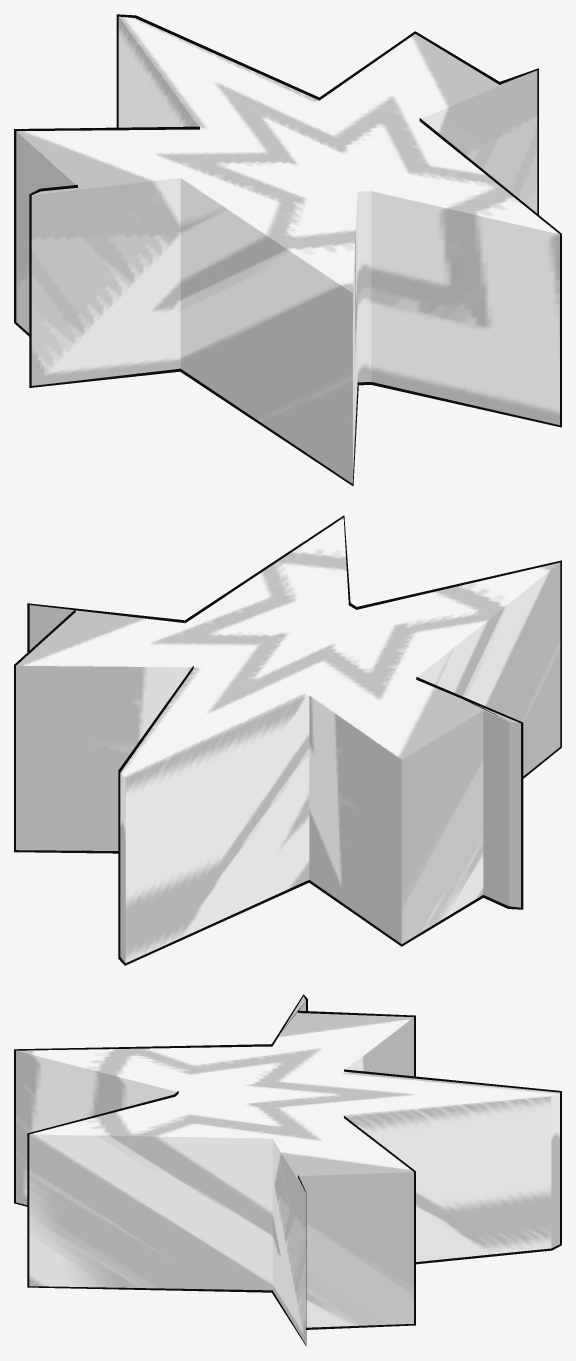
File: Building_SpikecoreFloorStar_Medium_Things_Building_FloorCoverings_SpikecoreStarMedium_SpikecoreStarMediumC.glb
3 views of the same model, one above another, from view 1: azimuth 30°, elevation 25°; view 2: azimuth 150°, elevation 25°; view 3: azimuth 270°, elevation 25° (orthographic). The views are drawn at different scales.
Parts seen in each view (by area): view 1: Body, Outline; view 2: Body, Outline; view 3: Body, Outline.
Boxes of the visible parts, bbox=[...] form: Body: bbox=[16, 16, 559, 483]; Outline: bbox=[14, 14, 561, 485]; Body: bbox=[16, 518, 560, 963]; Outline: bbox=[14, 515, 561, 965]; Body: bbox=[16, 996, 559, 1344]; Outline: bbox=[14, 994, 561, 1345].
Bounding box in the file's own units: 1.48 × 0.5427 × 1.73.
2 materials, 1 textured.
